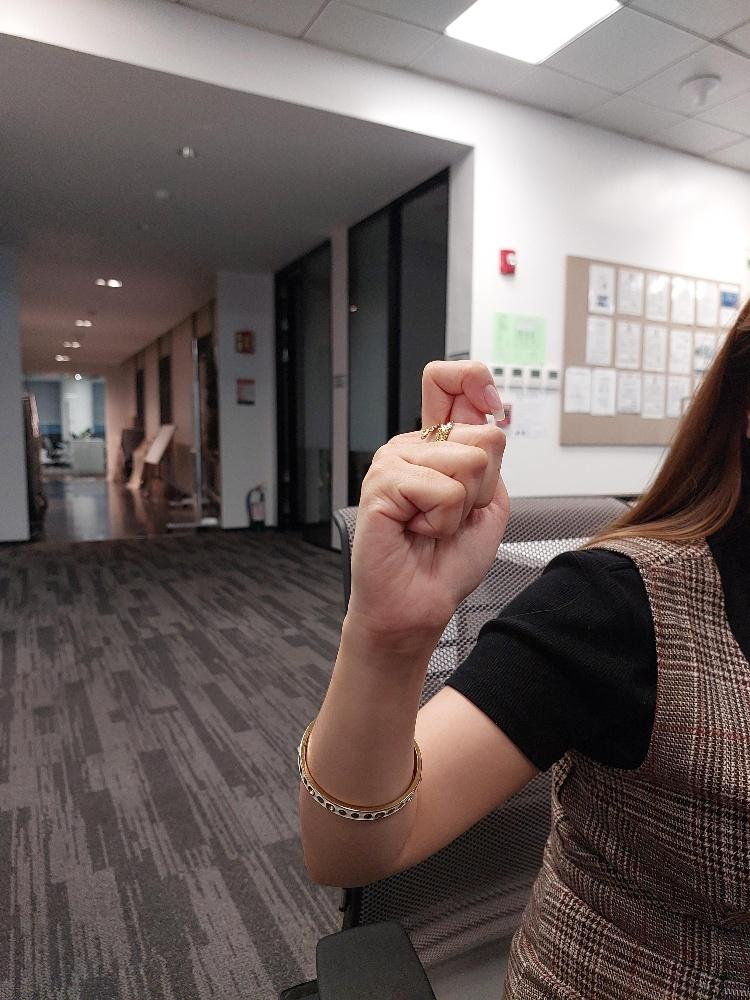t: (348, 354, 514, 638)
